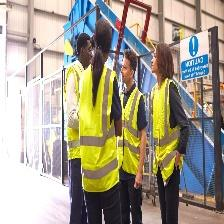Person: (80, 7, 123, 224), (149, 42, 189, 224), (63, 27, 93, 224), (117, 46, 148, 224)
no-helmet: (94, 16, 115, 47), (152, 41, 176, 65), (120, 47, 140, 72), (73, 33, 91, 54)
vest: (78, 64, 119, 194), (152, 78, 183, 185), (116, 86, 147, 176), (63, 62, 84, 165)
